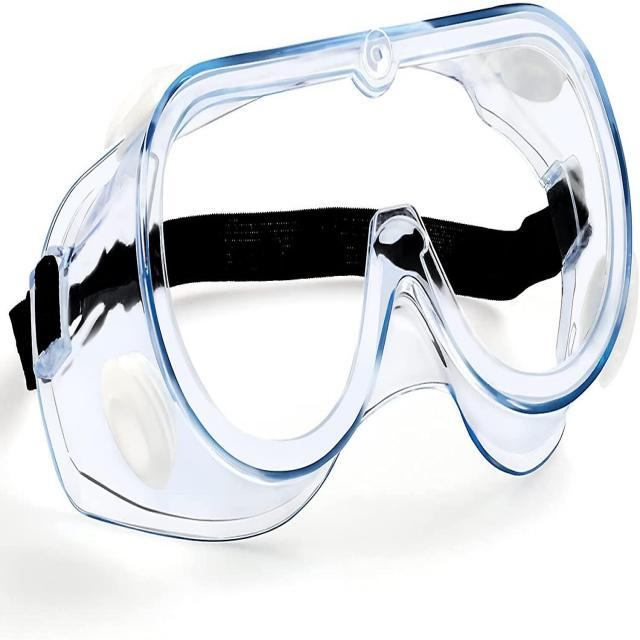Goggles: (13, 6, 640, 566)
